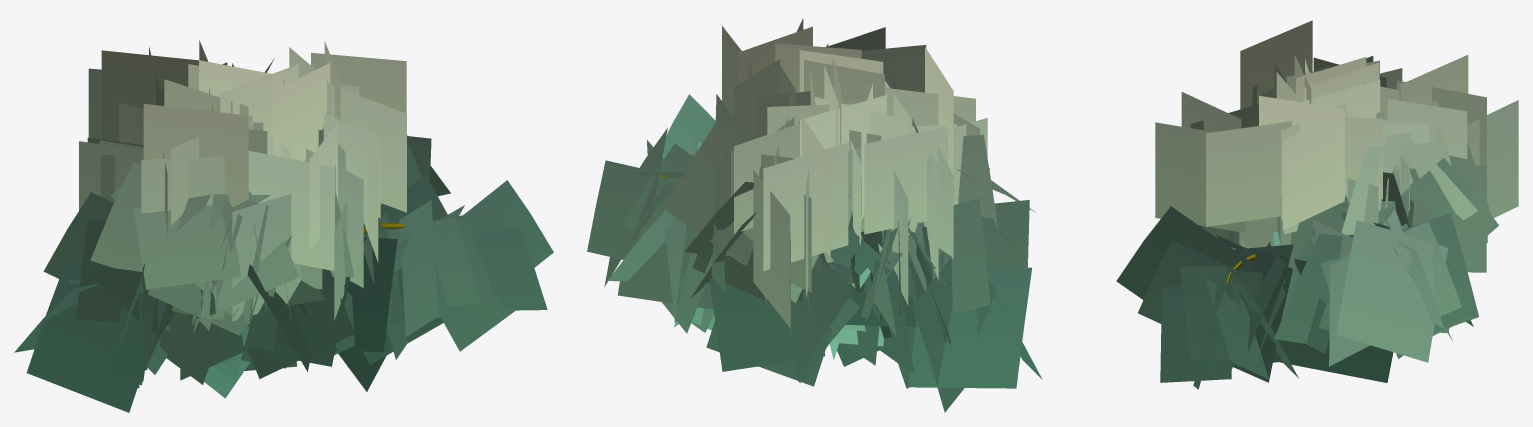
The model's file is bilberry_a.glb.
3 renders of one model, left to right at view 1: azimuth 30°, elevation 25°; view 2: azimuth 150°, elevation 25°; view 3: azimuth 270°, elevation 25°, orthographic. The views are drawn at different scales.
Parts seen in each view (by area): view 1: LOD0; view 2: LOD0; view 3: LOD0.
Boxes of the visible parts, <box> form: LOD0: <box>14,40,553,412</box>; LOD0: <box>587,18,1042,412</box>; LOD0: <box>1116,20,1518,389</box>.
Size of what is drawn, in the model's own units: 1.43 by 0.9008 by 1.15.
